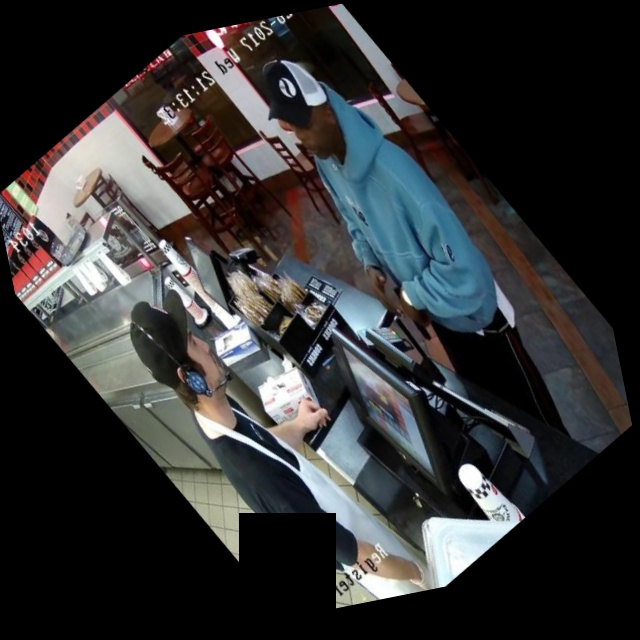gun: (369, 258, 459, 365)
